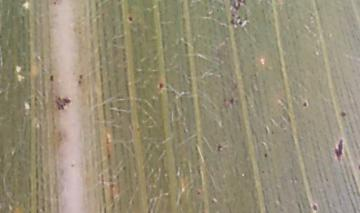tarspot: (54, 95, 73, 112), (333, 137, 344, 163), (231, 1, 248, 11), (310, 201, 319, 211), (157, 81, 165, 91), (48, 72, 55, 83), (339, 109, 347, 118), (228, 95, 235, 105), (126, 15, 134, 23), (216, 143, 223, 152), (230, 16, 236, 26), (210, 197, 217, 205), (301, 100, 308, 107), (263, 151, 269, 159), (77, 73, 83, 80), (236, 20, 243, 26), (76, 79, 82, 85), (196, 189, 201, 196), (52, 1, 57, 6)
